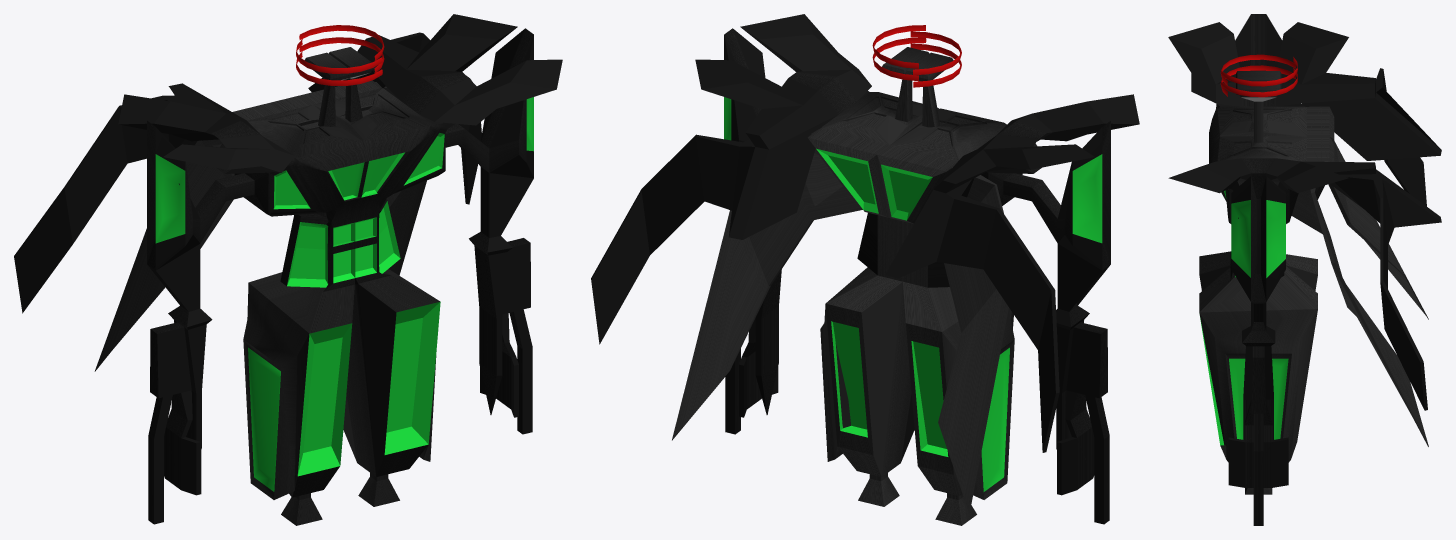
The model's file is Idle.fbx.
The picture shows the model from 3 angles, left to right: view 1: azimuth 30°, elevation 25°; view 2: azimuth 150°, elevation 25°; view 3: azimuth 270°, elevation 25°; orthographic projection. The views are drawn at different scales.
Parts seen in each view (by area): view 1: polySurface2; view 2: polySurface2; view 3: polySurface2.
Part boxes in pixels (x1,y1,x2,y2): polySurface2: [14, 14, 562, 525]; polySurface2: [591, 14, 1139, 525]; polySurface2: [1168, 14, 1441, 525].
Size of the model in its own units: 14.08 by 13.32 by 8.11.
4 materials, 1 textured.
